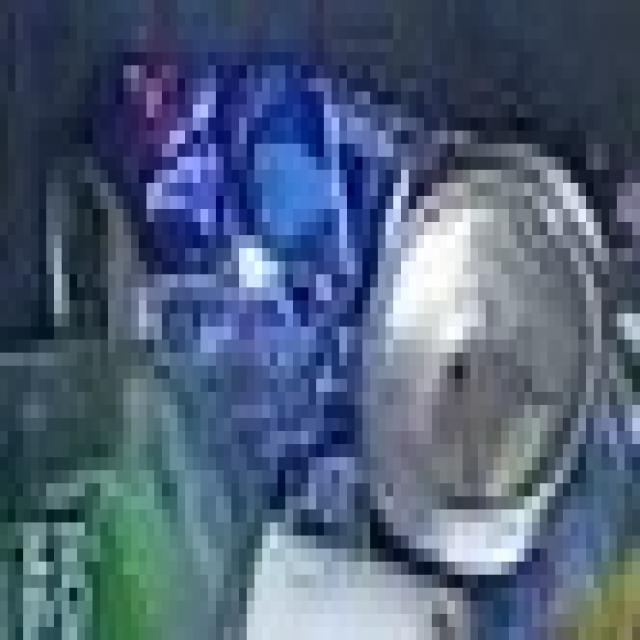litter: (49, 38, 617, 607)
